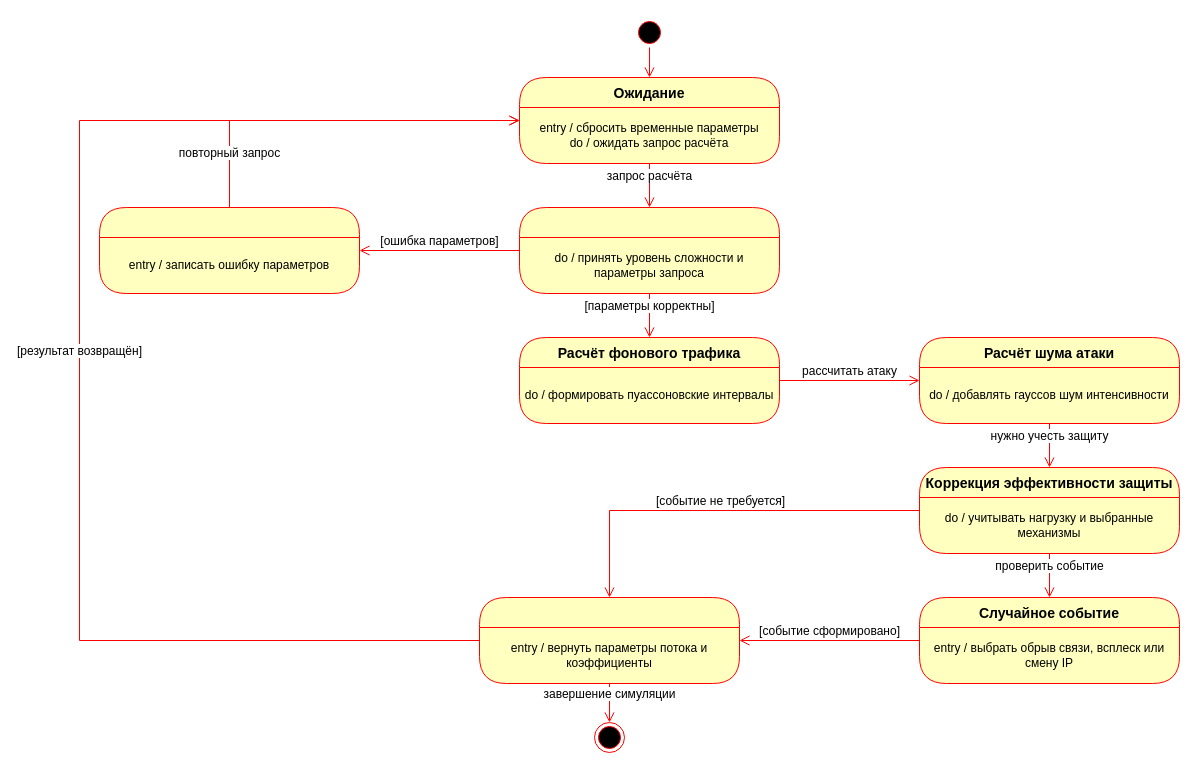
Some shapes in this 1197 by 770 pixel diagram are drawn without their labels. The box of each missing label's shape, as (x1, y1, x2, y2) in pixels:
Возврат результата: (478, 596, 740, 684)
Инициализация модели: (518, 206, 780, 294)
Ошибка расчёта: (98, 206, 360, 294)
